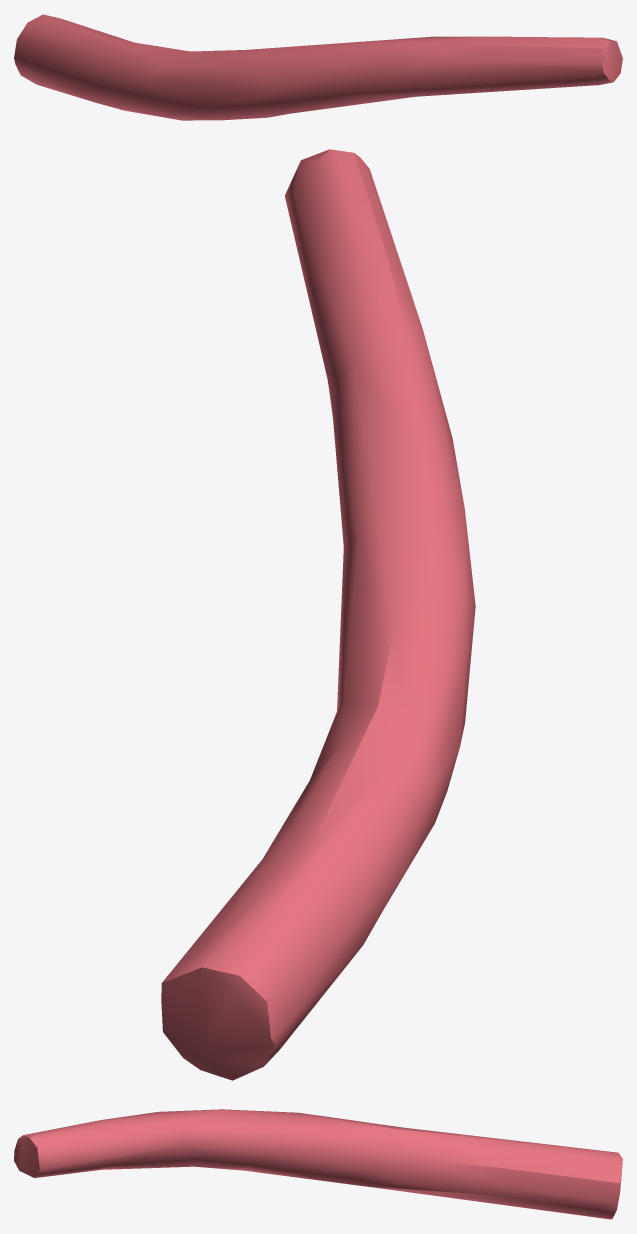
Rendered from fma68131_fj5980.glb.
3 views of the same model, one above another, from view 1: azimuth 30°, elevation 25°; view 2: azimuth 150°, elevation 25°; view 3: azimuth 270°, elevation 25° (orthographic). The views are drawn at different scales.
Visible parts, largest first — view 1: FMA68131_FJ5980; view 2: FMA68131_FJ5980; view 3: FMA68131_FJ5980.
Part boxes in pixels (x1=…): FMA68131_FJ5980: x1=14, y1=14, x2=622, y2=120; FMA68131_FJ5980: x1=161, y1=149, x2=475, y2=1080; FMA68131_FJ5980: x1=14, y1=1109, x2=622, y2=1219.
Bounding box in the file's own units: 0.0145 × 0.00956 × 0.0271.
